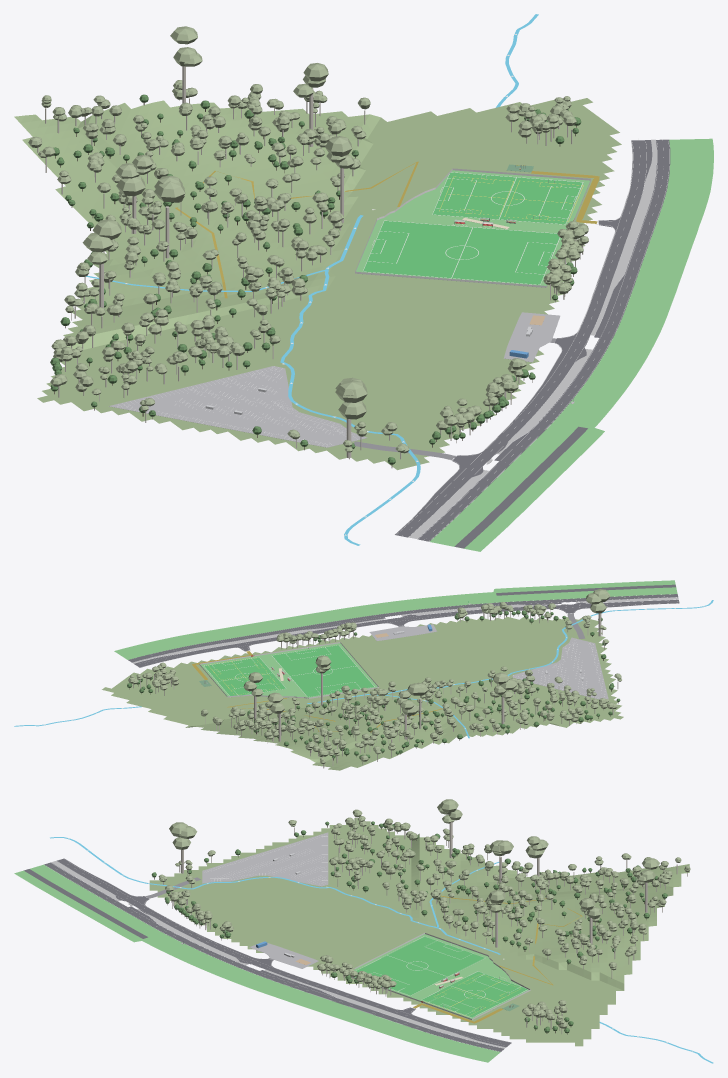
Rendered from KHFR_stage2_winter.glb.
3 views of the same model, one above another, from view 1: azimuth 30°, elevation 25°; view 2: azimuth 150°, elevation 25°; view 3: azimuth 270°, elevation 25° (orthographic). The views are drawn at different scales.
Parts seen in each view (by area): view 1: Reserve terrain, Bushland forest (euc_can), Road reserve (far verge), Pitch 3, New car park (~220), Swansea Rd NE-bound (surveyed both edges), Giant eucalypts (canopies), Pitch 4, Swansea Rd SW-bound (2 lanes, smooth), Bushland forest (wat_can), Bush planting zones (euc_can), field N flatgrass (+8 smaller); view 2: Reserve terrain, Bushland forest (euc_can), Road reserve (far verge), Pitch 3, New car park (~220), Giant eucalypts (canopies), Swansea Rd NE-bound (surveyed both edges), Swansea Rd SW-bound (2 lanes, smooth), Bushland forest (wat_can), Bush planting zones (euc_can), Pitch 4, field N flatgrass (+9 smaller); view 3: Reserve terrain, Bushland forest (euc_can), Road reserve (far verge), New car park (~220), Pitch 3, Swansea Rd NE-bound (surveyed both edges), Swansea Rd SW-bound (2 lanes, smooth), Giant eucalypts (canopies), Pitch 4, Bushland forest (wat_can), Bush planting zones (euc_can), field N flatgrass (+8 smaller).
Part boxes in pixels (x1=…): Reserve terrain: x1=14, y1=98, x2=621, y2=470; Bushland forest (euc_can): x1=28, y1=80, x2=409, y2=453; Road reserve (far verge): x1=430, y1=138, x2=713, y2=551; Pitch 3: x1=363, y1=221, x2=559, y2=284; New car park (~220): x1=109, y1=366, x2=367, y2=447; Swansea Rd NE-bound (surveyed both edges): x1=395, y1=140, x2=652, y2=537; Giant eucalypts (canopies): x1=82, y1=26, x2=367, y2=419; Pitch 4: x1=433, y1=172, x2=582, y2=224; Swansea Rd SW-bound (2 lanes, smooth): x1=417, y1=139, x2=670, y2=541; Bushland forest (wat_can): x1=50, y1=94, x2=395, y2=464; Bush planting zones (euc_can): x1=444, y1=96, x2=588, y2=427; field N flatgrass: x1=356, y1=170, x2=589, y2=287; Reserve terrain: x1=102, y1=616, x2=623, y2=770; Bushland forest (euc_can): x1=201, y1=615, x2=621, y2=763; Road reserve (far verge): x1=114, y1=580, x2=677, y2=659; Pitch 3: x1=272, y1=645, x2=374, y2=696; New car park (~220): x1=512, y1=637, x2=609, y2=701; Giant eucalypts (canopies): x1=243, y1=589, x2=610, y2=715; Swansea Rd NE-bound (surveyed both edges): x1=134, y1=599, x2=679, y2=667; Swansea Rd SW-bound (2 lanes, smooth): x1=128, y1=594, x2=678, y2=662; Bushland forest (wat_can): x1=247, y1=617, x2=620, y2=759; Bush planting zones (euc_can): x1=128, y1=602, x2=556, y2=690; Pitch 4: x1=204, y1=657, x2=285, y2=695; field N flatgrass: x1=200, y1=643, x2=377, y2=697; Reserve terrain: x1=149, y1=818, x2=689, y2=1046; Bushland forest (euc_can): x1=158, y1=809, x2=690, y2=970; Road reserve (far verge): x1=14, y1=864, x2=500, y2=1062; New car park (~220): x1=202, y1=832, x2=328, y2=886; Pitch 3: x1=356, y1=936, x2=484, y2=995; Swansea Rd NE-bound (surveyed both edges): x1=57, y1=858, x2=511, y2=1047; Swansea Rd SW-bound (2 lanes, smooth): x1=44, y1=862, x2=504, y2=1051; Giant eucalypts (canopies): x1=169, y1=799, x2=659, y2=919; Pitch 4: x1=422, y1=971, x2=527, y2=1017; Bushland forest (wat_can): x1=151, y1=821, x2=667, y2=963; Bush planting zones (euc_can): x1=165, y1=885, x2=567, y2=1028; field N flatgrass: x1=354, y1=934, x2=528, y2=1018.
Size of the model in its own units: 495 by 72.62 by 599.
